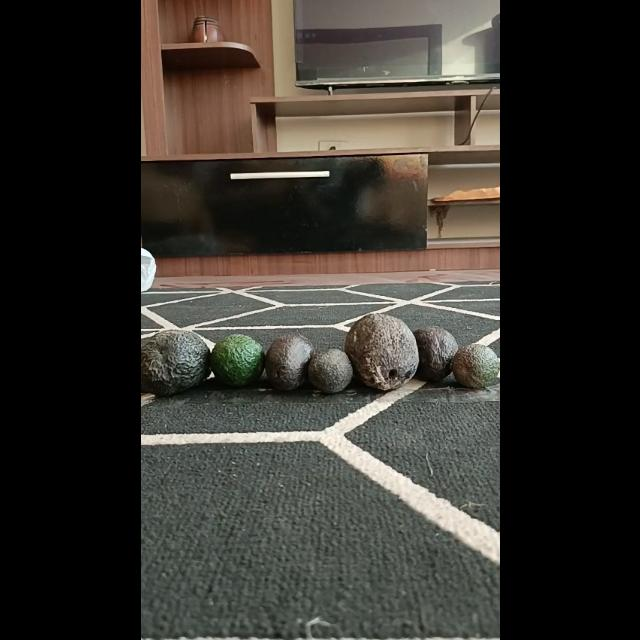Primera: (343, 312, 417, 390), (140, 329, 210, 396)
Segunda: (208, 334, 264, 386), (263, 334, 313, 390), (410, 326, 458, 382)
Tercera: (452, 343, 498, 389), (308, 348, 352, 394)
